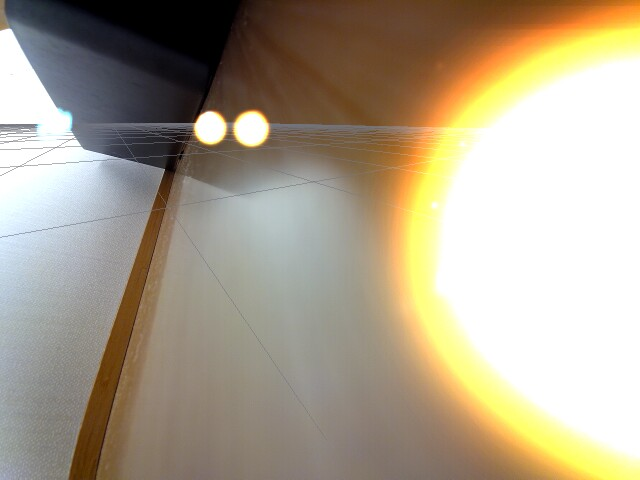firebig: (386, 2, 636, 480)
